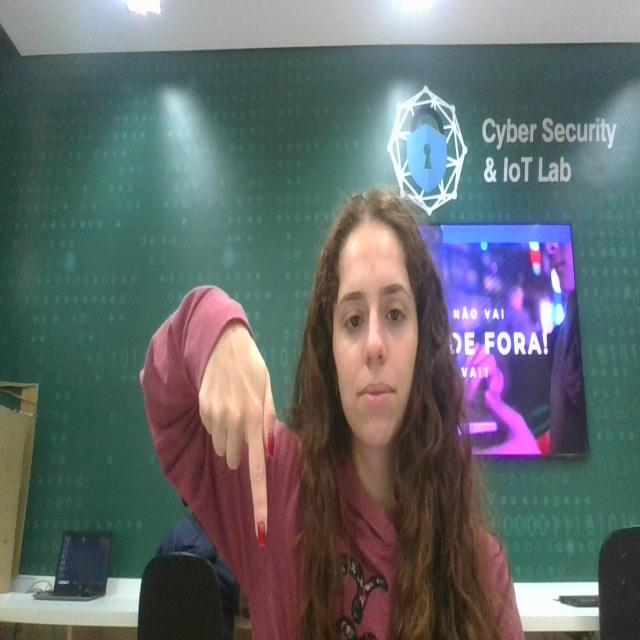Q: (186, 284, 292, 545)
